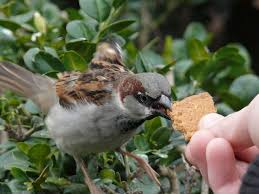hsparrow: (2, 57, 172, 191)
